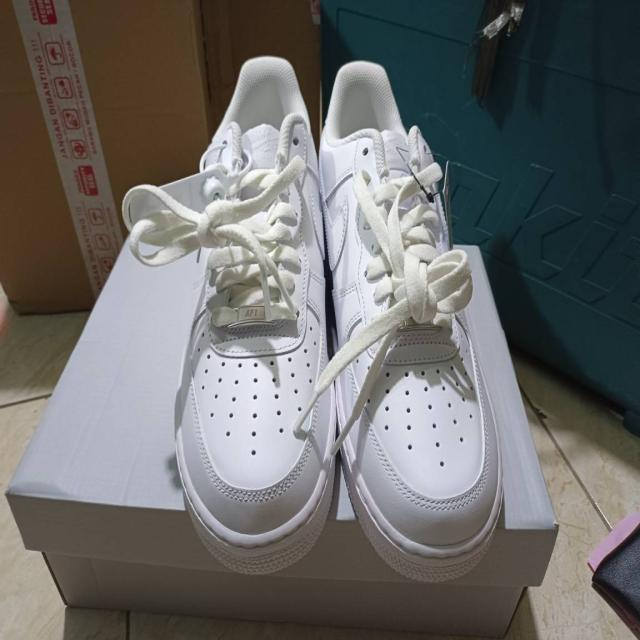nike original air force: (319, 59, 506, 583), (168, 52, 339, 574)
